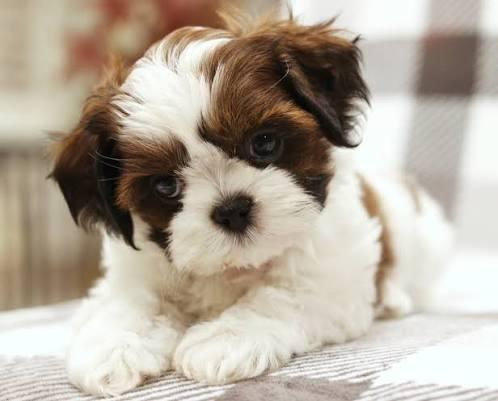puppy-dog: (43, 8, 462, 393)
